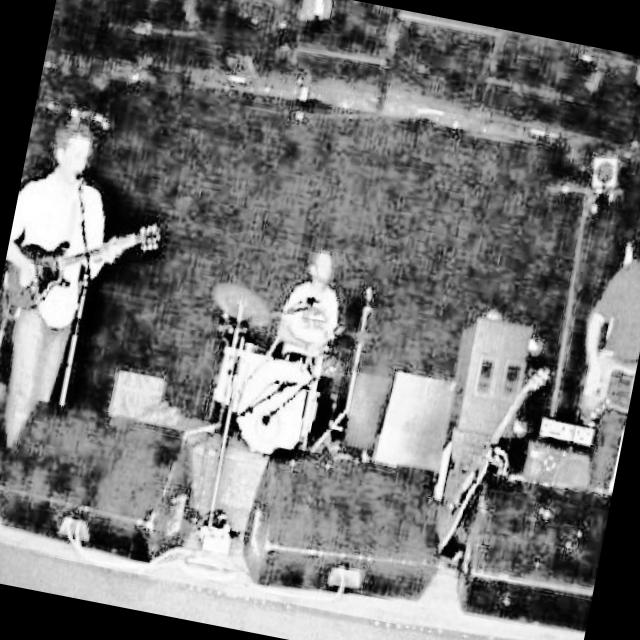Person: (0, 106, 143, 452), (555, 188, 640, 490), (272, 233, 362, 370)
